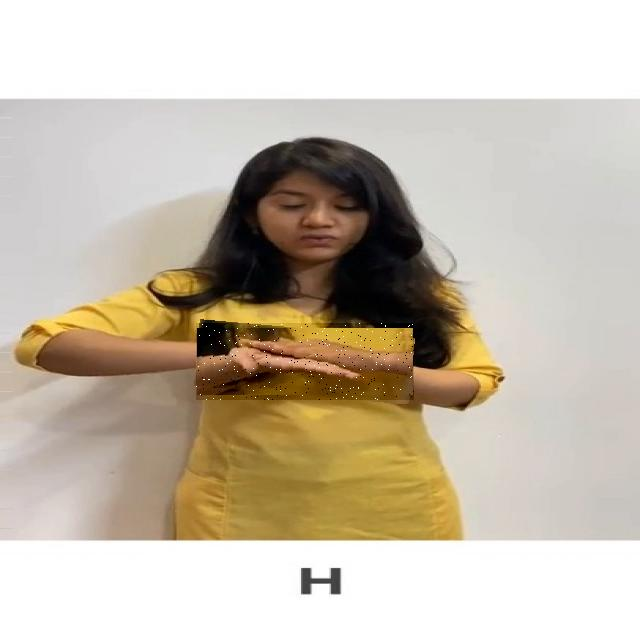H: (196, 323, 414, 400)
